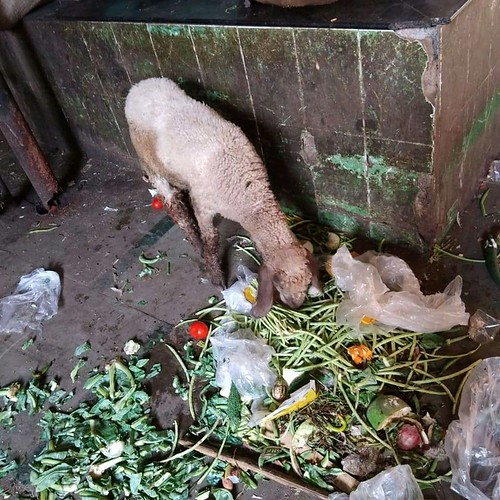animal: (108, 76, 312, 314)
trash: (109, 219, 495, 500)
